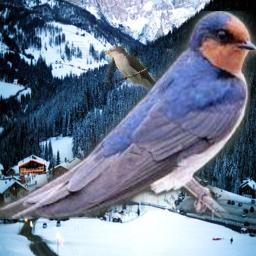Cuckoo: (104, 46, 176, 111)
Swallow: (0, 11, 256, 219)
